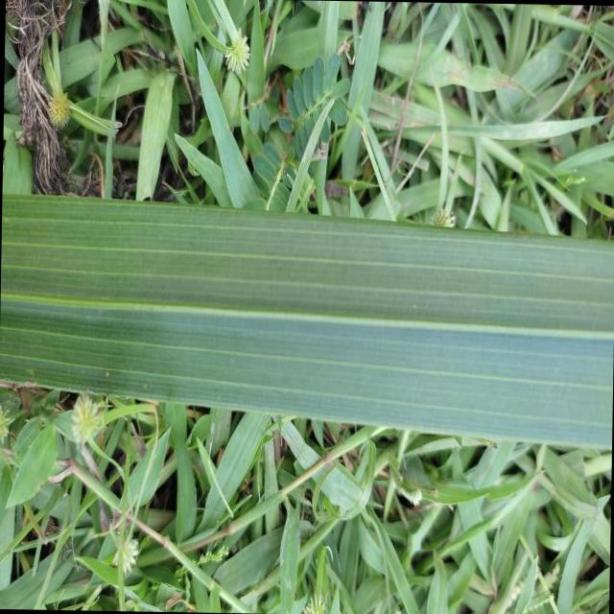Healthy: (0, 199, 614, 452)
